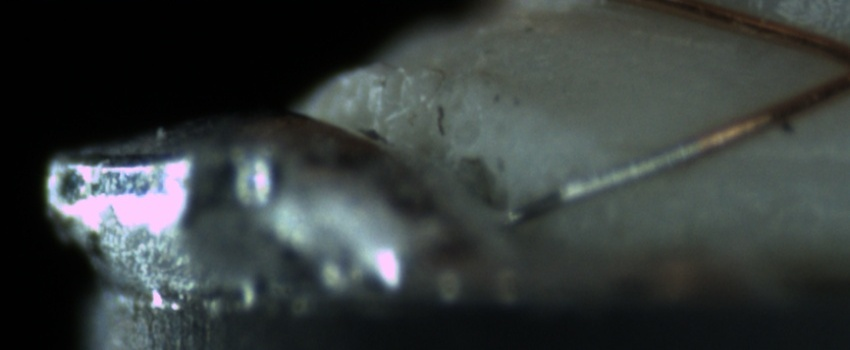DL: (572, 132, 850, 182)
TS: (499, 136, 703, 229)
